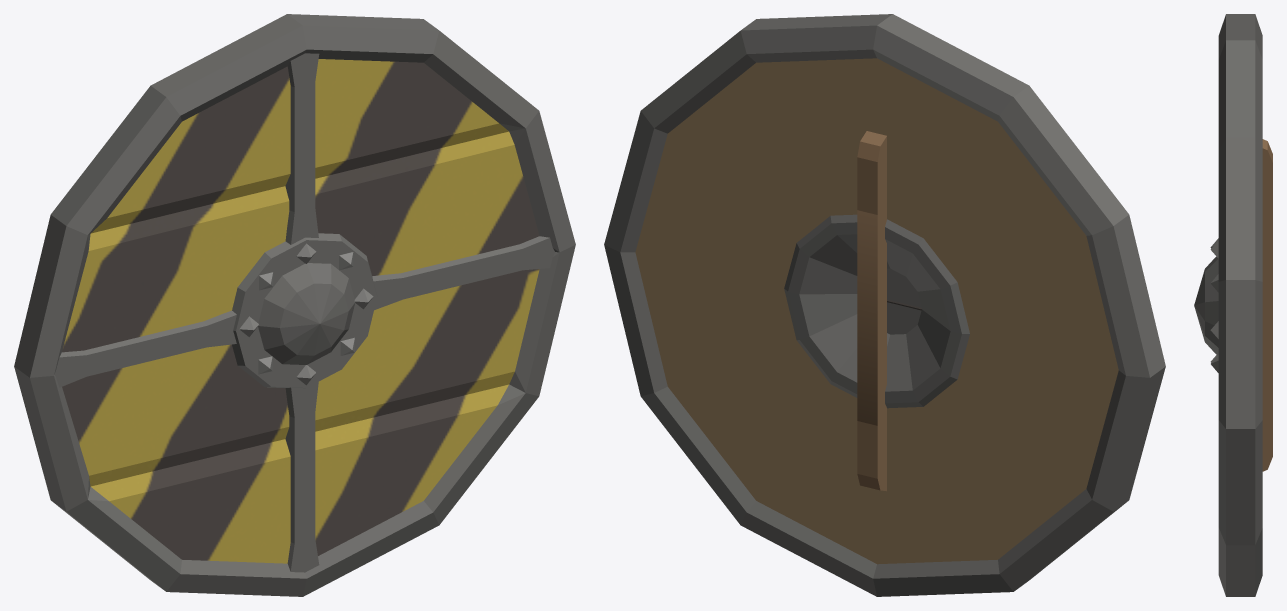
The model's file is SM_pwe_slavic_shield_03l.fbx.
3 renders of one model, left to right at view 1: azimuth 30°, elevation 25°; view 2: azimuth 150°, elevation 25°; view 3: azimuth 270°, elevation 25°, orthographic. The views are drawn at different scales.
Visible parts, largest first — view 1: SM_pwe_slavic_shield_03l; view 2: SM_pwe_slavic_shield_03l; view 3: SM_pwe_slavic_shield_03l.
Boxes of the visible parts, x1,y1,x2,y2 form: SM_pwe_slavic_shield_03l: (14,14,575,596); SM_pwe_slavic_shield_03l: (604,14,1165,596); SM_pwe_slavic_shield_03l: (1194,14,1272,596).
Size of the model in its own units: 70.52 by 70.52 by 9.5.
